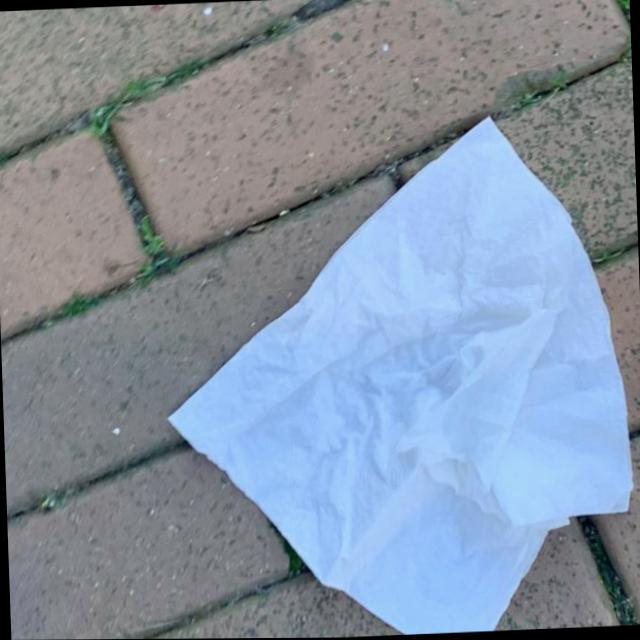Paper: (152, 103, 637, 639)
